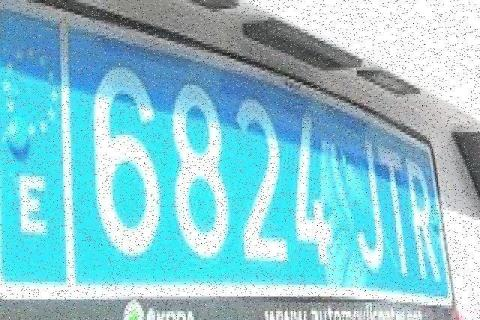LicensePlate: (0, 0, 464, 320)
